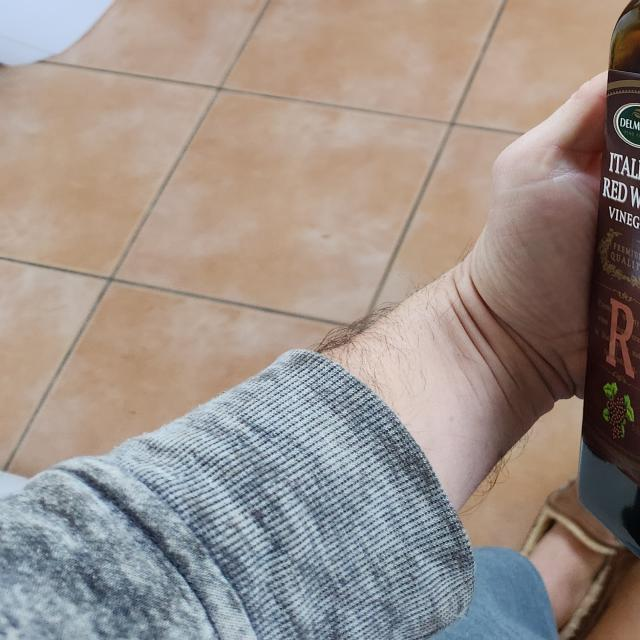red wine vinegar: (574, 0, 640, 573)
